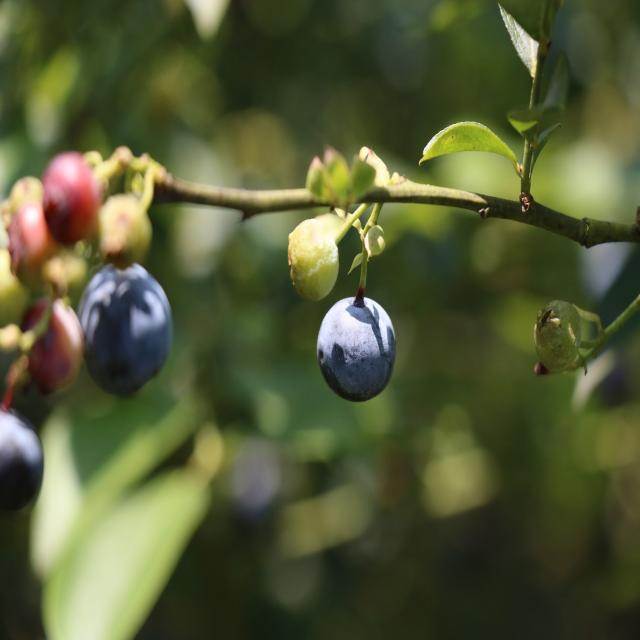blueberry: (70, 255, 180, 404), (312, 291, 400, 406), (0, 406, 49, 525)
blueberry-halfripe: (24, 298, 80, 389), (40, 155, 95, 241)
blueberry-unripe: (286, 218, 340, 306), (530, 297, 584, 375)
